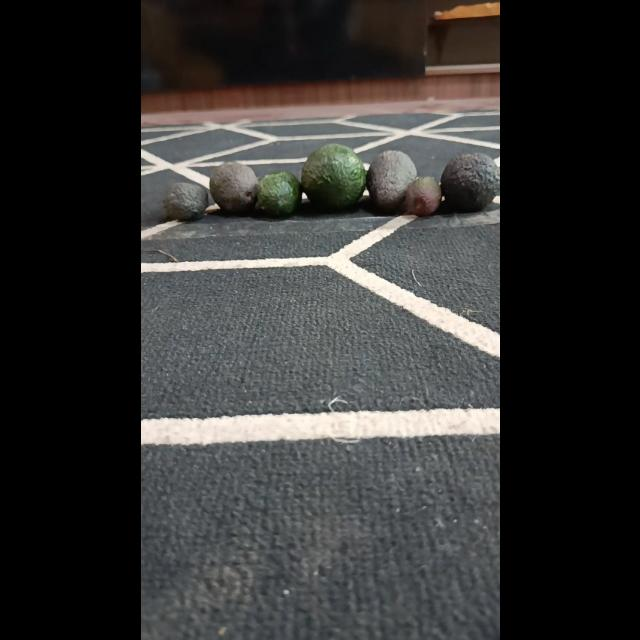Primera: (300, 142, 366, 212), (438, 152, 498, 212)
Segunda: (366, 150, 418, 214), (208, 162, 258, 214), (253, 171, 300, 217)
Tercera: (158, 182, 208, 222), (402, 176, 441, 217)
